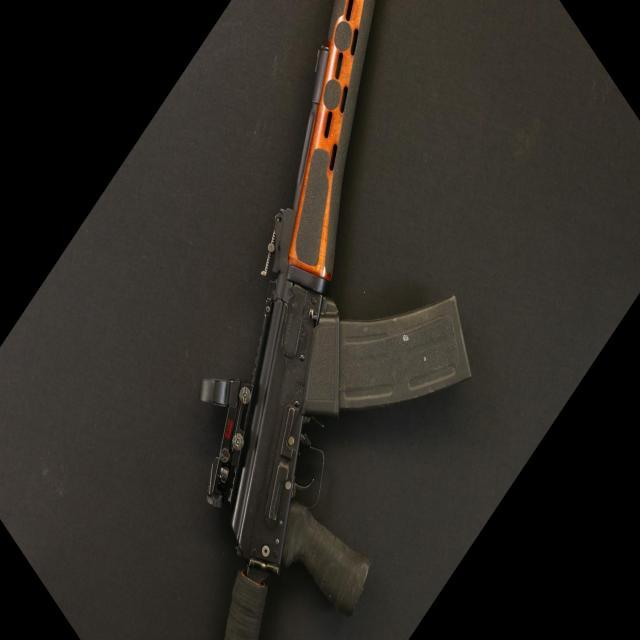weapon: (198, 0, 473, 640)
